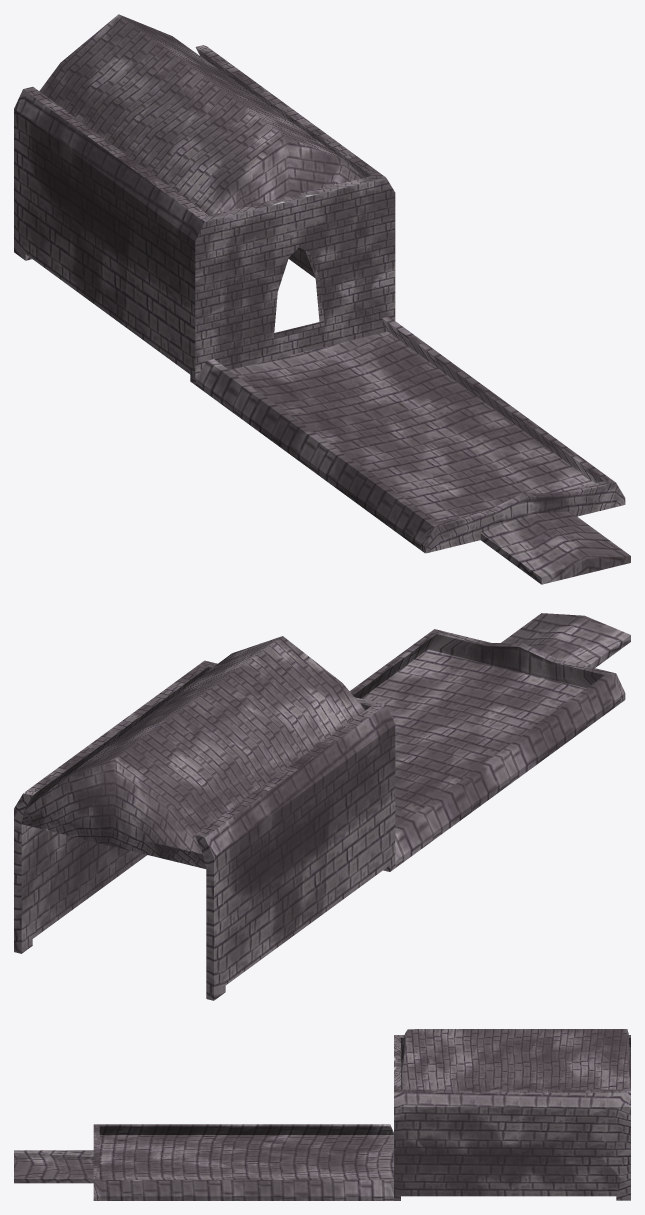
File: Castle_Roof.fbx
3 views of the same model, one above another, from view 1: azimuth 30°, elevation 25°; view 2: azimuth 150°, elevation 25°; view 3: azimuth 270°, elevation 25° (orthographic). The views are drawn at different scales.
Visible parts, largest first — view 1: CastleRoof; view 2: CastleRoof; view 3: CastleRoof.
Part boxes in pixels (box(x1,y1,x2,y2)): CastleRoof: box(14, 14, 630, 584); CastleRoof: box(14, 613, 630, 1000); CastleRoof: box(14, 1029, 630, 1200).
Size of the model in its own units: 0.3017 by 0.3107 by 1.23.
